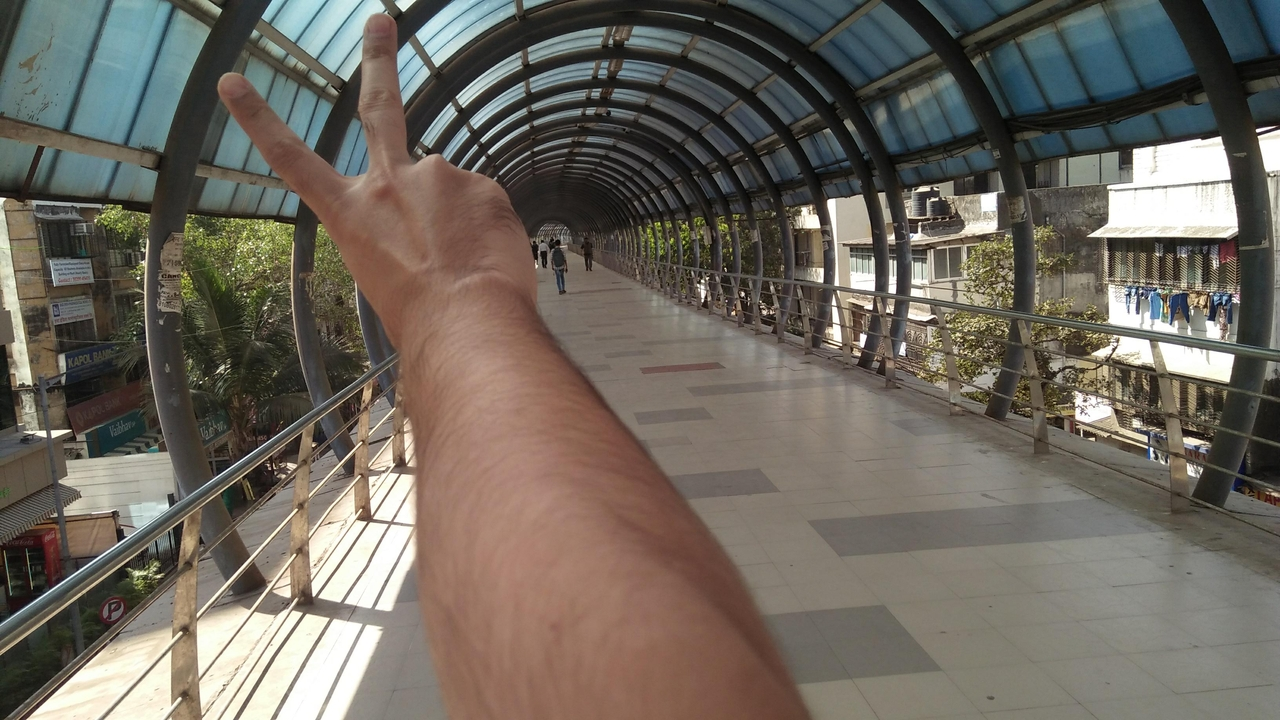fingertip: (200, 62, 256, 110), (354, 0, 398, 50)
